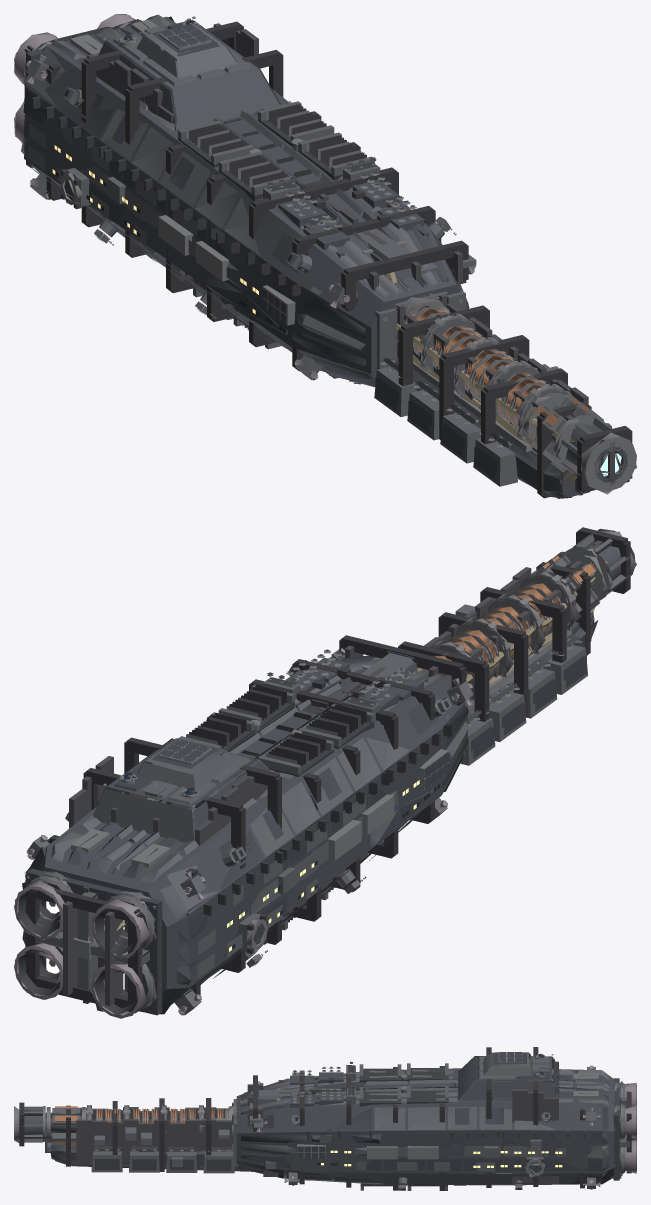
Rendered from ion_frigate_chunks.glb.
The picture shows the model from 3 angles, top to bottom: view 1: azimuth 30°, elevation 25°; view 2: azimuth 150°, elevation 25°; view 3: azimuth 270°, elevation 25°; orthographic projection. The views are drawn at different scales.
Parts seen in each view (by area): view 1: chunk_18, chunk_08, chunk_04, chunk_03, chunk_10, chunk_22, chunk_09, chunk_02, chunk_01, chunk_20, chunk_00, chunk_07 (+12 smaller); view 2: chunk_00, chunk_07, chunk_19, chunk_08, chunk_18, chunk_10, chunk_03, chunk_09, chunk_02, chunk_01, chunk_12, chunk_17 (+14 smaller); view 3: chunk_29, chunk_26, chunk_18, chunk_28, chunk_27, chunk_34, chunk_30, chunk_36, chunk_33, chunk_17, chunk_16, chunk_35 (+13 smaller).
Part boxes in pixels (x1,y1,x2,y2): chunk_18: (498, 369, 636, 498); chunk_08: (72, 36, 199, 172); chunk_04: (310, 282, 439, 430); chunk_03: (203, 219, 355, 383); chunk_10: (209, 159, 357, 282); chunk_22: (265, 143, 421, 251); chunk_09: (142, 110, 263, 218); chunk_02: (135, 172, 248, 329); chunk_01: (64, 124, 165, 267); chunk_20: (135, 21, 263, 109); chunk_00: (14, 59, 114, 223); chunk_07: (14, 32, 133, 123); chunk_00: (102, 876, 255, 1018); chunk_07: (102, 788, 246, 931); chunk_19: (38, 773, 184, 920); chunk_08: (185, 751, 313, 875); chunk_18: (484, 527, 635, 658); chunk_10: (315, 667, 457, 780); chunk_03: (329, 712, 454, 891); chunk_09: (263, 721, 368, 828); chunk_02: (282, 781, 377, 930); chunk_01: (210, 830, 313, 976); chunk_12: (38, 902, 104, 1011); chunk_17: (438, 589, 546, 695); chunk_29: (280, 1124, 389, 1190); chunk_26: (540, 1123, 636, 1189); chunk_18: (14, 1102, 116, 1169); chunk_28: (389, 1128, 464, 1190); chunk_27: (464, 1129, 540, 1189); chunk_34: (464, 1079, 540, 1133); chunk_30: (180, 1118, 279, 1177); chunk_36: (280, 1088, 389, 1129); chunk_33: (540, 1079, 636, 1132); chunk_17: (116, 1102, 180, 1169); chunk_16: (180, 1101, 262, 1171); chunk_35: (389, 1091, 464, 1132).
Bounding box in the file's own units: 14.02 × 14.78 × 68.5.
